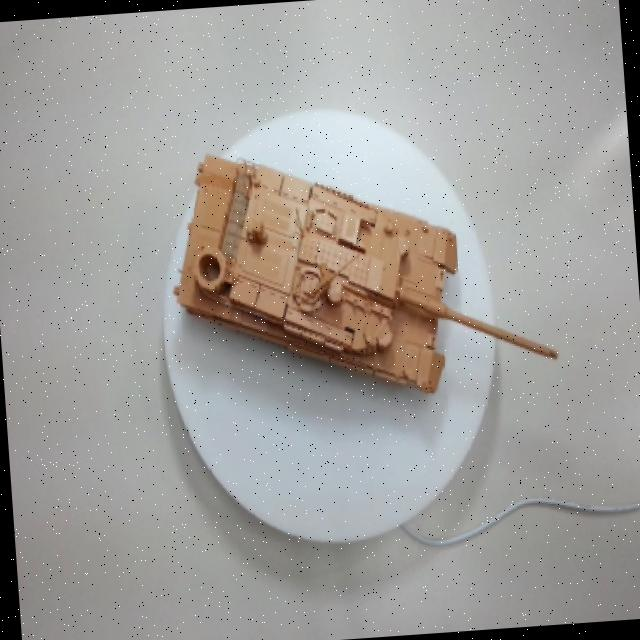korea tank: (120, 107, 564, 452)
